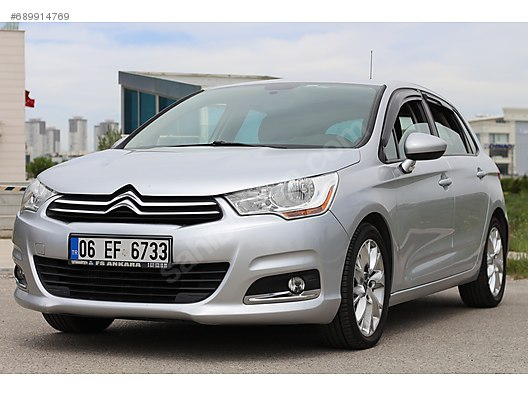c: (4, 80, 520, 343)
